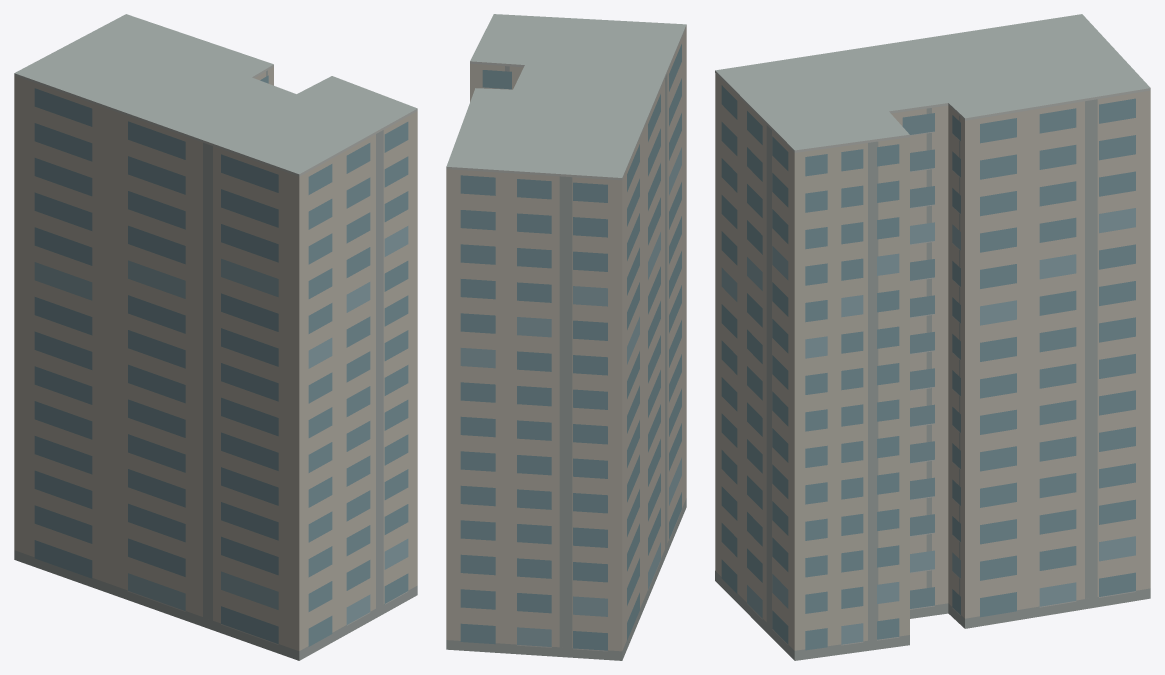
Rendered from residential-5950fef6-6317-4a36-9ff9-1beb9dd1a450.glb.
3 renders of one model, left to right at view 1: azimuth 30°, elevation 25°; view 2: azimuth 150°, elevation 25°; view 3: azimuth 270°, elevation 25°, orthographic. The views are drawn at different scales.
Parts seen in each view (by area): view 1: residential-5950fef6-6317-4a36-9ff9-1beb9dd1a450.tmp; view 2: residential-5950fef6-6317-4a36-9ff9-1beb9dd1a450.tmp; view 3: residential-5950fef6-6317-4a36-9ff9-1beb9dd1a450.tmp.
Part boxes in pixels (left/top/right/bottom): residential-5950fef6-6317-4a36-9ff9-1beb9dd1a450.tmp: left=14, top=14, right=417, bottom=660; residential-5950fef6-6317-4a36-9ff9-1beb9dd1a450.tmp: left=446, top=14, right=686, bottom=660; residential-5950fef6-6317-4a36-9ff9-1beb9dd1a450.tmp: left=715, top=14, right=1150, bottom=660.
Bounding box in the file's own units: 28.67 × 50 × 38.67.
